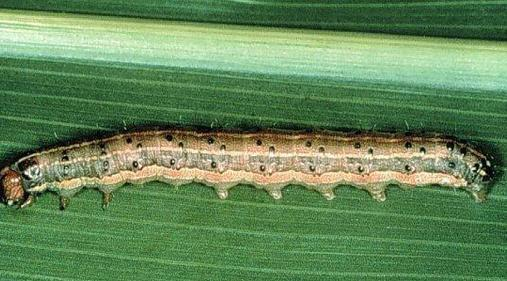caterpillars: (0, 110, 507, 242)
